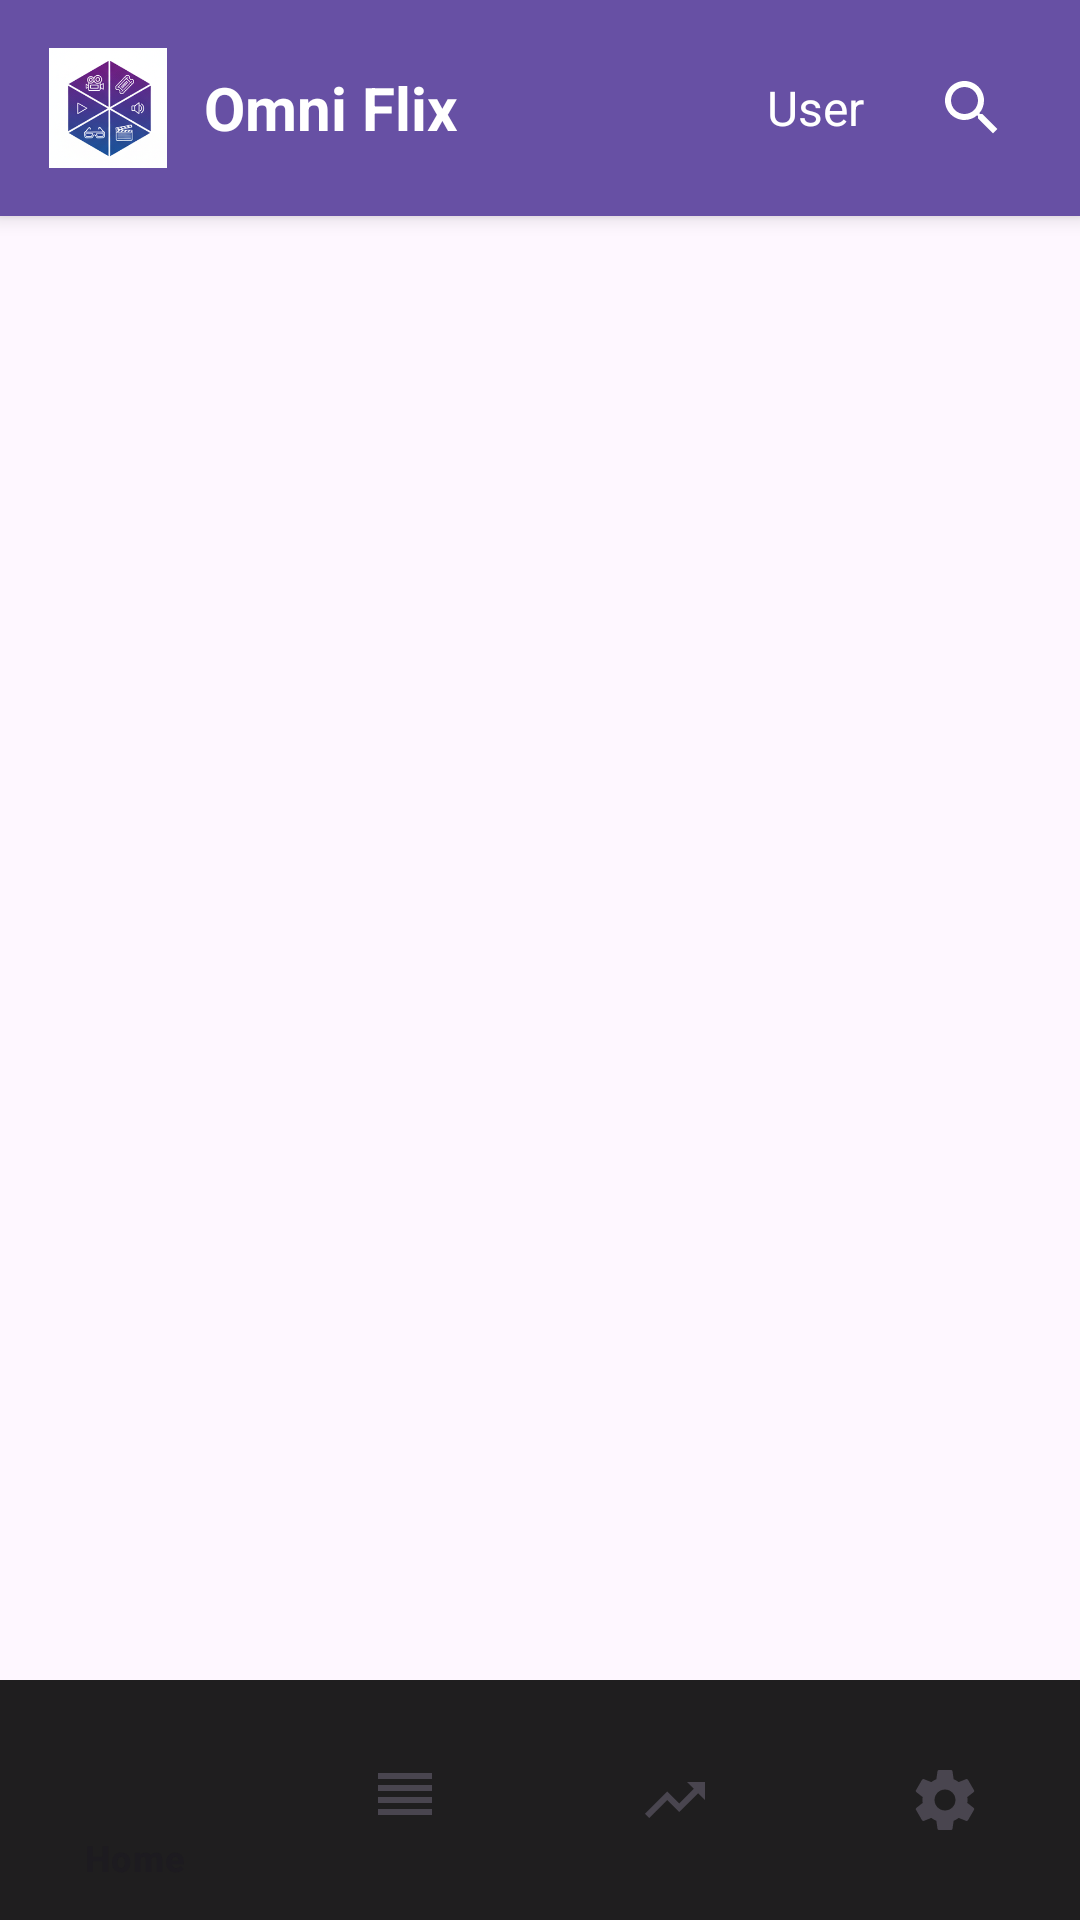

Named icons in this screenshot (1080 x 1920) and their bounding boxes, (x1, y1, x2, y2):
Search: (945, 81, 997, 133)
